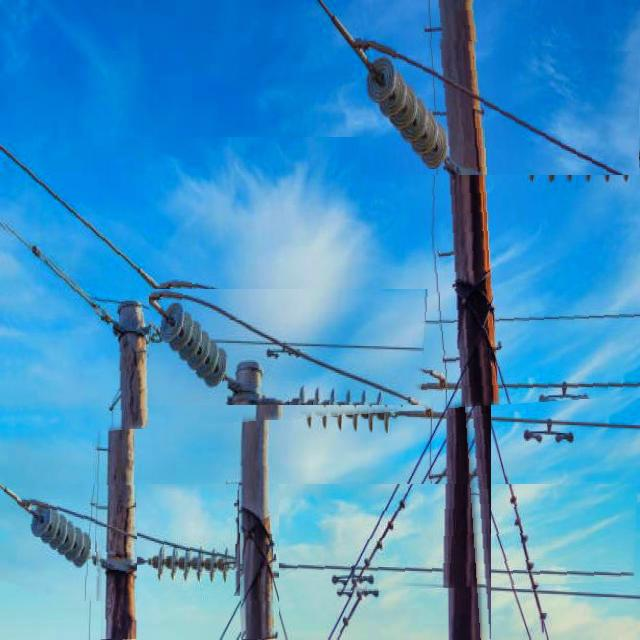pole: (441, 0, 491, 640), (95, 316, 137, 640), (238, 365, 279, 639)
wire: (1, 137, 640, 403), (17, 484, 636, 586), (0, 218, 432, 364), (354, 35, 639, 175), (149, 290, 423, 405)
